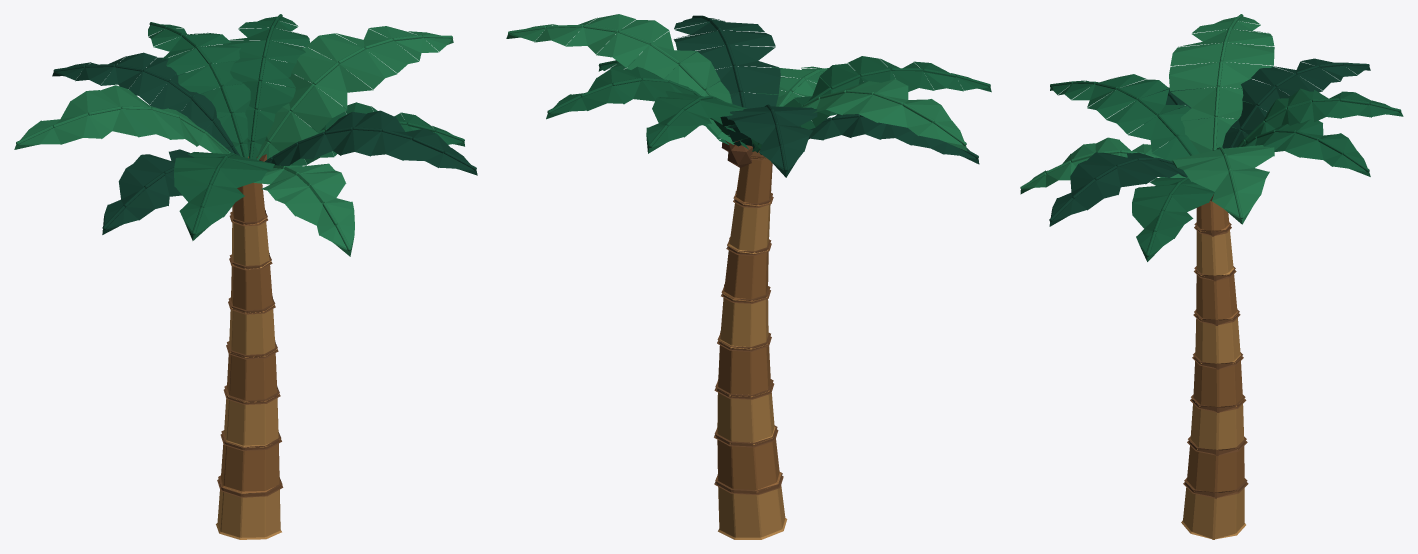
Rendered from PalmTree.glb.
3 renders of one model, left to right at view 1: azimuth 30°, elevation 25°; view 2: azimuth 150°, elevation 25°; view 3: azimuth 270°, elevation 25°, orthographic. The views are drawn at different scales.
Visible parts, largest first — view 1: PalmTree_FrondLeftHigh, PalmTree_FrondRightHigh, PalmTree_FrondRearLeft, PalmTree_FrondBackTop, PalmTree_FrondFrontLeft, PalmTree_FrondRearRight, PalmTree_FrondFrontRight, PalmTree_FrondFrontCenter, PalmTree_FrondRightLower, PalmTree_TrunkSegment01, PalmTree_TrunkSegment02, PalmTree_TrunkSegment03 (+6 smaller); view 2: PalmTree_FrondLeftHigh, PalmTree_FrondFrontLeft, PalmTree_FrondRightHigh, PalmTree_FrondFrontRight, PalmTree_FrondRearRight, PalmTree_FrondRearLeft, PalmTree_FrondBackTop, PalmTree_TrunkSegment01, PalmTree_TrunkSegment02, PalmTree_FrondRightLower, PalmTree_TrunkSegment03, PalmTree_TrunkSegment04 (+5 smaller); view 3: PalmTree_FrondRightHigh, PalmTree_FrondFrontRight, PalmTree_FrondLeftHigh, PalmTree_FrondRearRight, PalmTree_FrondFrontLeft, PalmTree_FrondLeftLower, PalmTree_FrondBackTop, PalmTree_FrondRearLeft, PalmTree_TrunkSegment01, PalmTree_TrunkSegment02, PalmTree_TrunkSegment03, PalmTree_FrondFrontCenter (+5 smaller).
Part boxes in pixels (x1=…): PalmTree_FrondLeftHigh: x1=256, y1=26, x2=453, y2=160; PalmTree_FrondRightHigh: x1=14, y1=85, x2=230, y2=154; PalmTree_FrondRearLeft: x1=218, y1=14, x2=310, y2=159; PalmTree_FrondBackTop: x1=148, y1=22, x2=251, y2=157; PalmTree_FrondFrontLeft: x1=265, y1=110, x2=477, y2=175; PalmTree_FrondRearRight: x1=52, y1=52, x2=239, y2=155; PalmTree_FrondFrontRight: x1=174, y1=152, x2=275, y2=240; PalmTree_FrondFrontCenter: x1=254, y1=163, x2=354, y2=256; PalmTree_FrondRightLower: x1=102, y1=149, x2=193, y2=234; PalmTree_TrunkSegment01: x1=216, y1=488, x2=281, y2=539; PalmTree_TrunkSegment02: x1=220, y1=443, x2=279, y2=493; PalmTree_TrunkSegment03: x1=224, y1=396, x2=279, y2=447; PalmTree_FrondLeftHigh: x1=506, y1=14, x2=734, y2=144; PalmTree_FrondFrontLeft: x1=673, y1=15, x2=780, y2=108; PalmTree_FrondRightHigh: x1=752, y1=79, x2=967, y2=151; PalmTree_FrondFrontRight: x1=783, y1=56, x2=991, y2=129; PalmTree_FrondRearRight: x1=720, y1=104, x2=817, y2=177; PalmTree_FrondRearLeft: x1=546, y1=66, x2=748, y2=149; PalmTree_FrondBackTop: x1=646, y1=91, x2=761, y2=153; PalmTree_TrunkSegment01: x1=718, y1=472, x2=787, y2=539; PalmTree_TrunkSegment02: x1=717, y1=439, x2=780, y2=492; PalmTree_FrondRightLower: x1=760, y1=114, x2=979, y2=164; PalmTree_TrunkSegment03: x1=716, y1=389, x2=775, y2=444; PalmTree_TrunkSegment04: x1=716, y1=341, x2=770, y2=396; PalmTree_FrondRightHigh: x1=1169, y1=14, x2=1274, y2=153; PalmTree_FrondFrontRight: x1=1050, y1=74, x2=1199, y2=161; PalmTree_FrondLeftHigh: x1=1170, y1=145, x2=1274, y2=224; PalmTree_FrondRearRight: x1=1222, y1=58, x2=1370, y2=148; PalmTree_FrondFrontLeft: x1=1049, y1=152, x2=1187, y2=226; PalmTree_FrondLeftLower: x1=1132, y1=177, x2=1214, y2=261; PalmTree_FrondBackTop: x1=1237, y1=88, x2=1403, y2=147; PalmTree_FrondRearLeft: x1=1242, y1=119, x2=1370, y2=176; PalmTree_TrunkSegment01: x1=1181, y1=487, x2=1245, y2=539; PalmTree_TrunkSegment02: x1=1186, y1=446, x2=1244, y2=492; PalmTree_TrunkSegment03: x1=1190, y1=399, x2=1244, y2=449; PalmTree_FrondFrontCenter: x1=1020, y1=137, x2=1185, y2=194.
Size of the model in its own units: 4.32 by 4.23 by 3.42.
